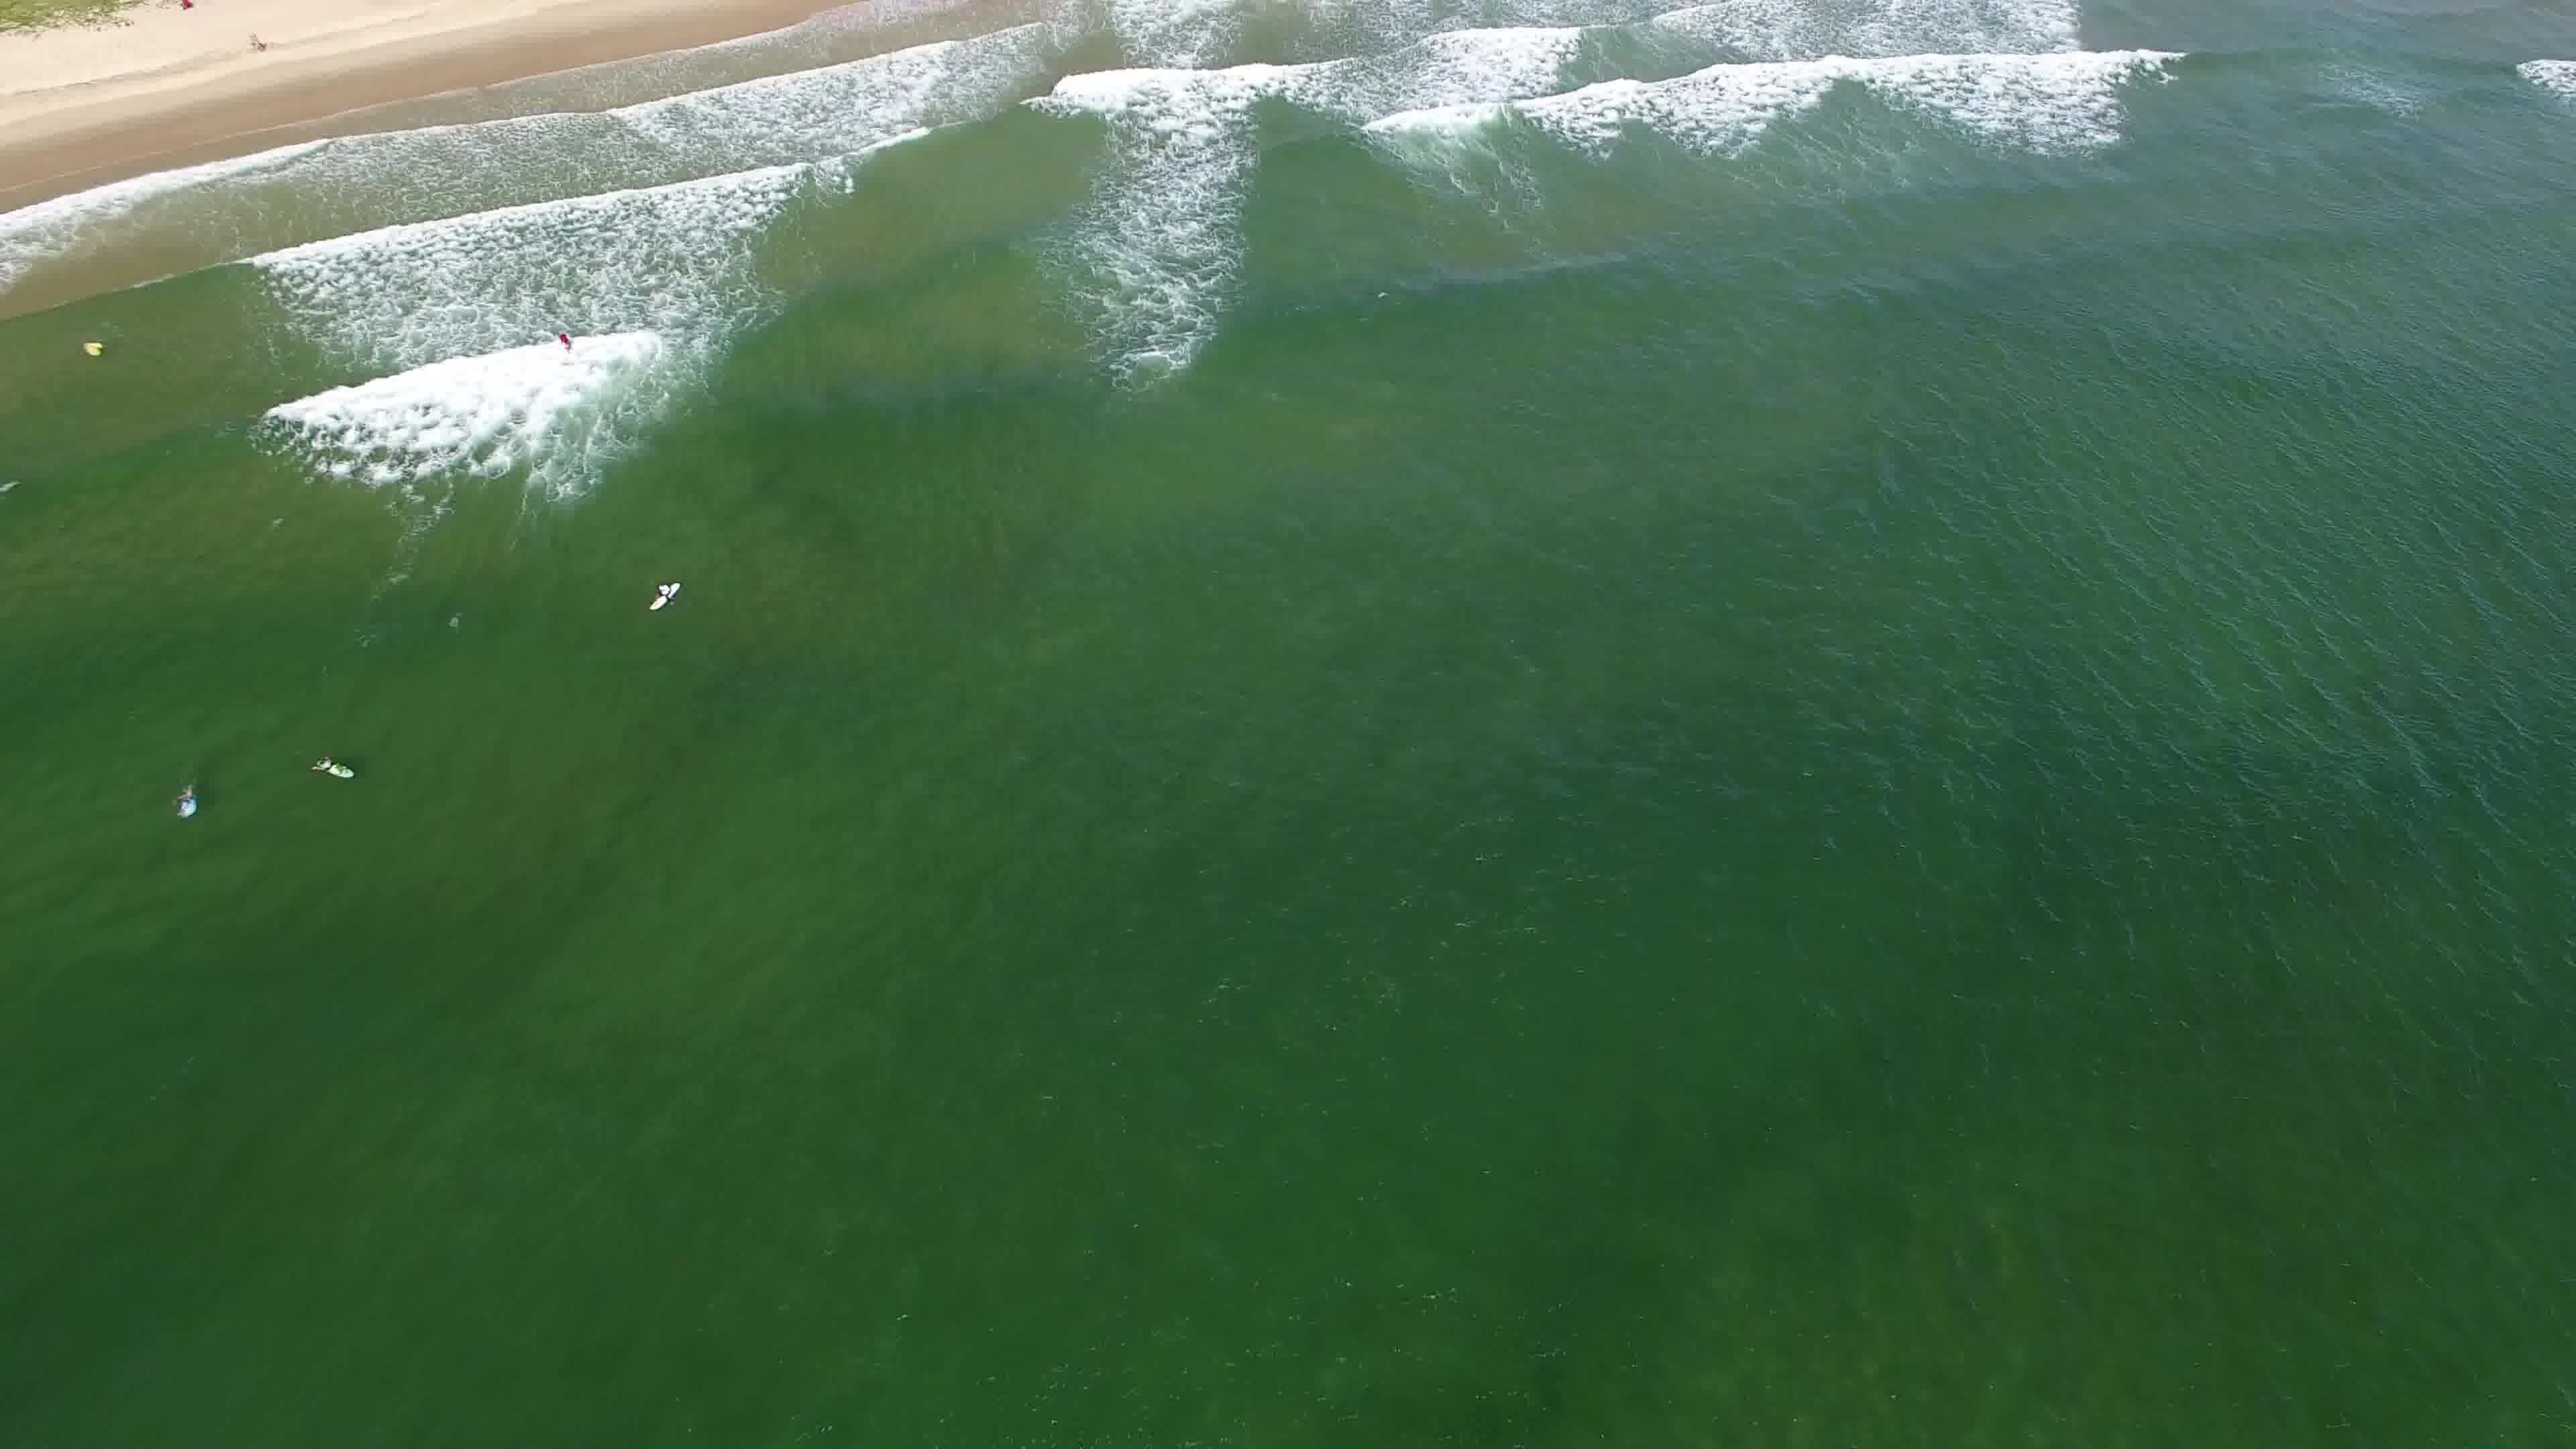surfer: (640, 570, 690, 614), (306, 748, 368, 780), (166, 777, 203, 826), (74, 331, 111, 364), (557, 327, 582, 350)
